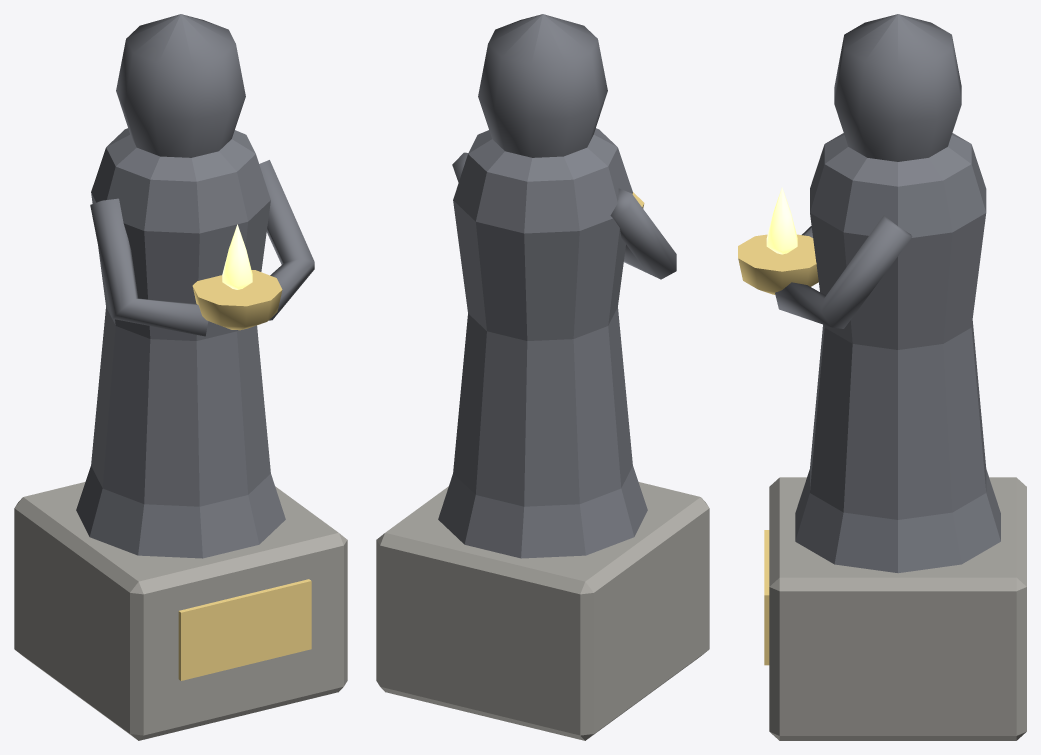
File: cr_statue.glb
3 views of the same model, side by side, from view 1: azimuth 30°, elevation 25°; view 2: azimuth 150°, elevation 25°; view 3: azimuth 270°, elevation 25° (orthographic). The views are drawn at different scales.
Visible parts, largest first — view 1: cr_statue; view 2: cr_statue; view 3: cr_statue.
Part boxes in pixels (x1,y1,x2,y2): cr_statue: (14,14,347,740); cr_statue: (376,14,709,740); cr_statue: (738,14,1026,740).
Size of the model in its own units: 1 by 2.9 by 1.12.
